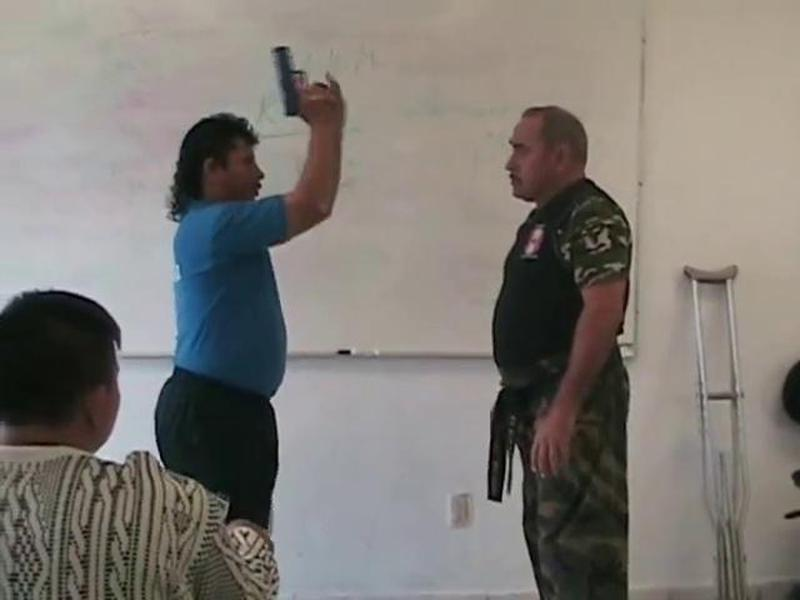Pistola: (250, 34, 360, 130)
